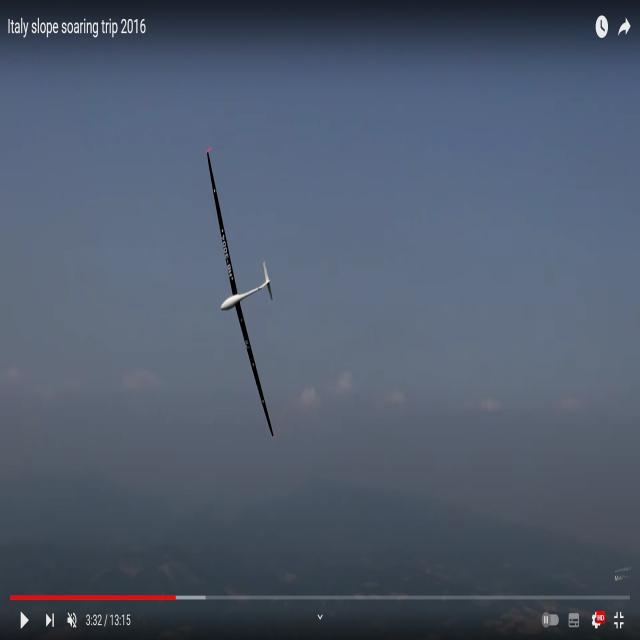iha: (239, 147, 242, 442)
